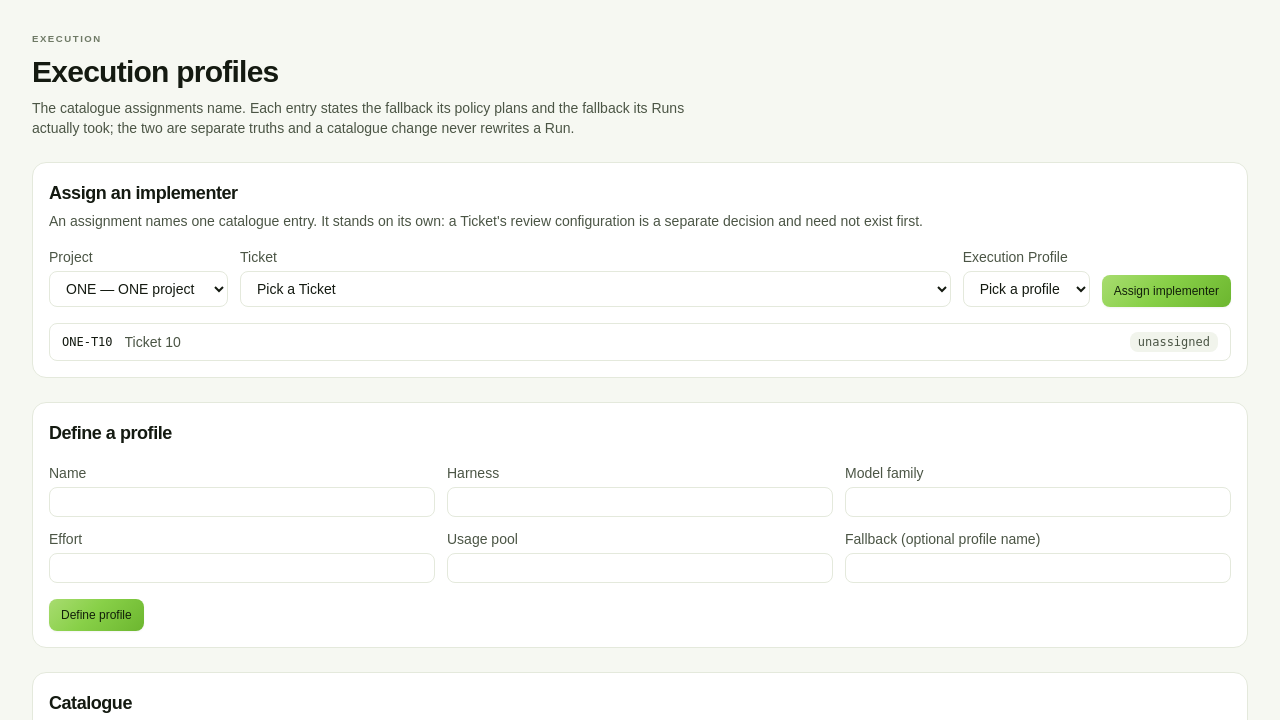
Test: Profiles keeps assignment inside the selected Project › never labels the Runs of the Project left behind as the Project arrived at
Select "TWO — TWO project" in the dropdown with test id "assign-project" at (138, 289), box x1=49 y1=271 x2=228 y2=307
(page scrolled)
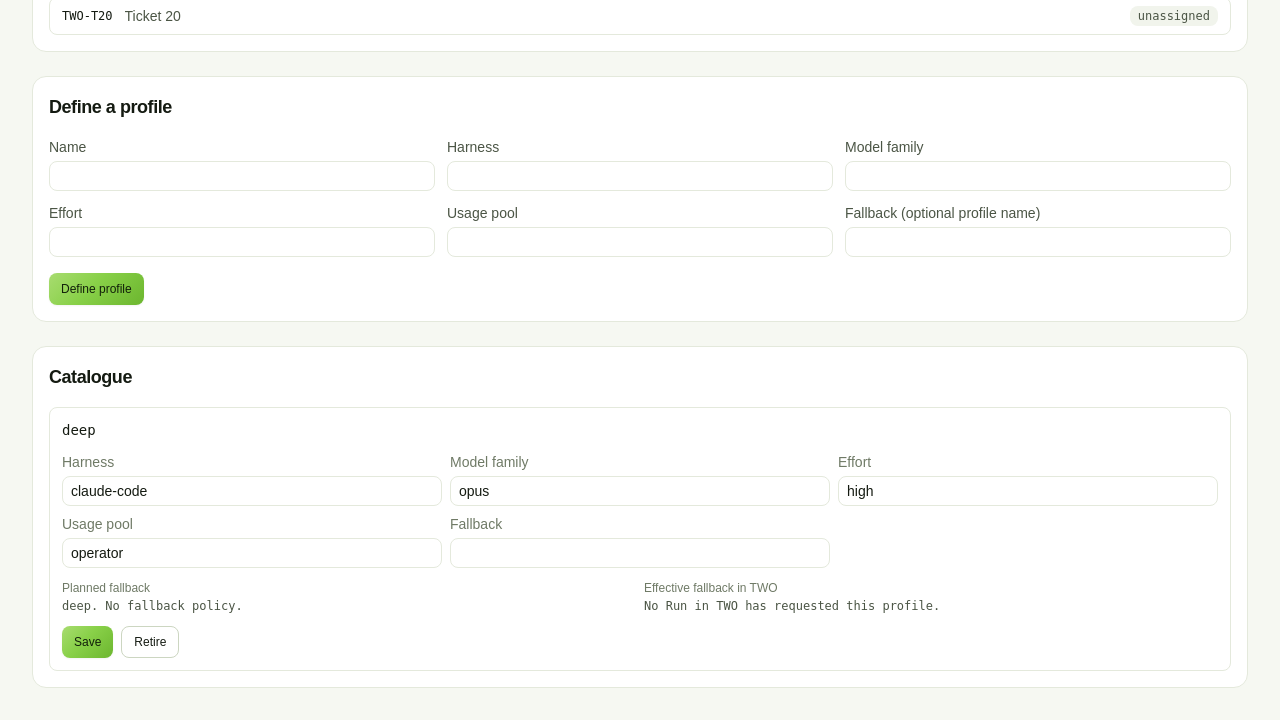
Expected: the text "Effective fallback in TWO" is shown, x1=644 y1=581 x2=778 y2=595
Expected: the text with test id "profile-effective-deep" shows "No Run in TWO", x1=644 y1=599 x2=940 y2=613
